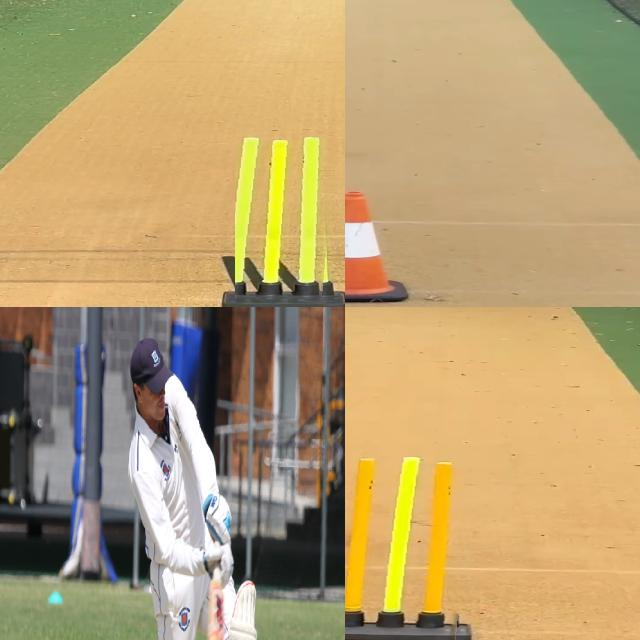Stumps: (345, 457, 472, 640), (235, 128, 337, 299)
